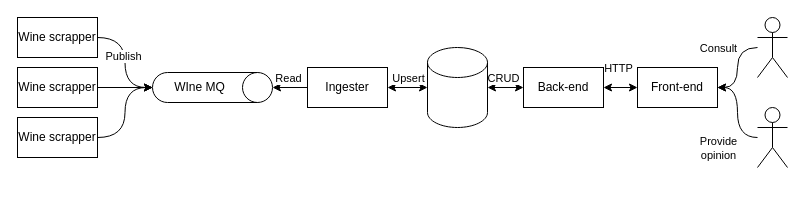
The diagram is 807 pixels wide and 206 high, and some of its shapes have lost their labels. Each missing label, with the box of its shape:
DB: (426, 46, 488, 128)
Expert: (756, 106, 788, 168)
User: (756, 16, 788, 78)
